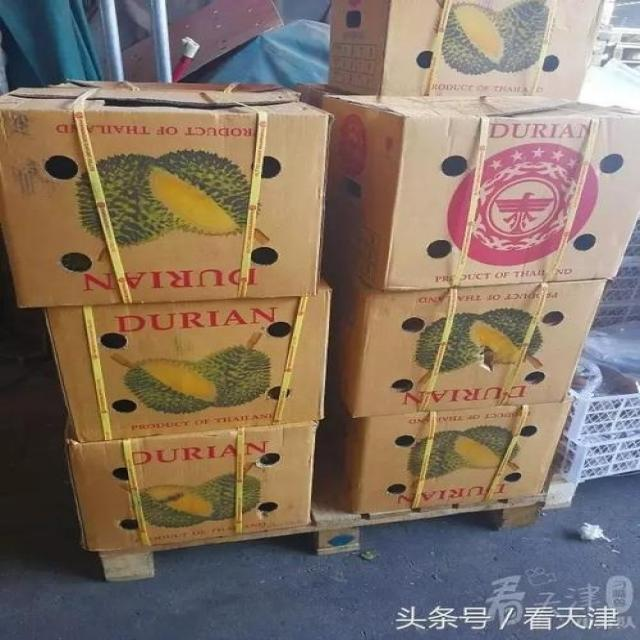Carton: (0, 100, 636, 554), (329, 0, 602, 98), (351, 401, 572, 519)
